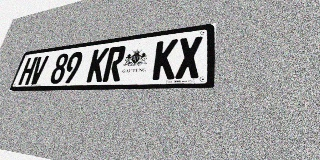8: (48, 53, 70, 84)
9: (61, 51, 84, 83)
H: (18, 57, 38, 85)
K: (152, 39, 178, 80), (86, 48, 109, 82)
R: (102, 45, 126, 82)
V: (28, 55, 49, 85)
X: (175, 36, 202, 79)
